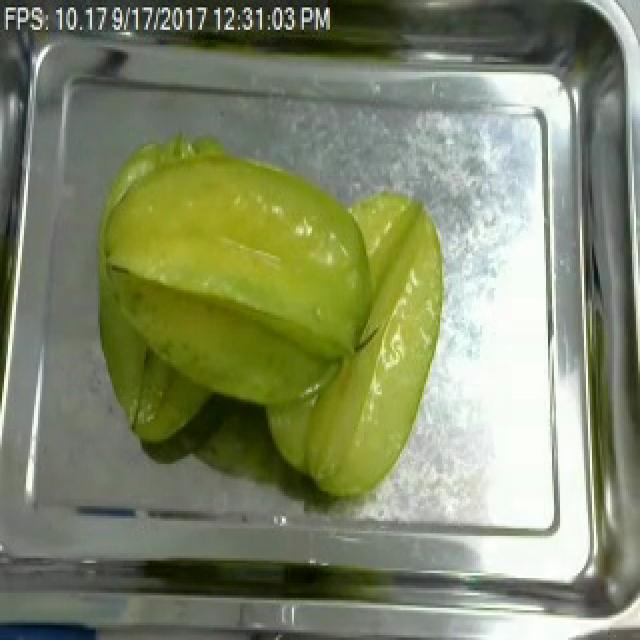fruit: (80, 132, 458, 429)
